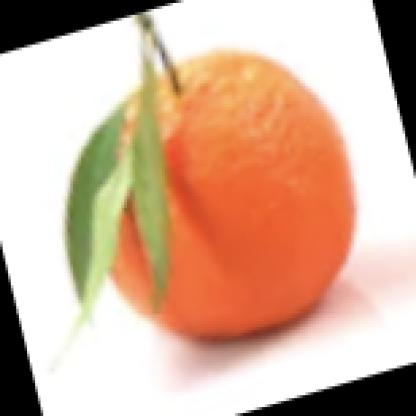orange: (55, 51, 358, 319)
